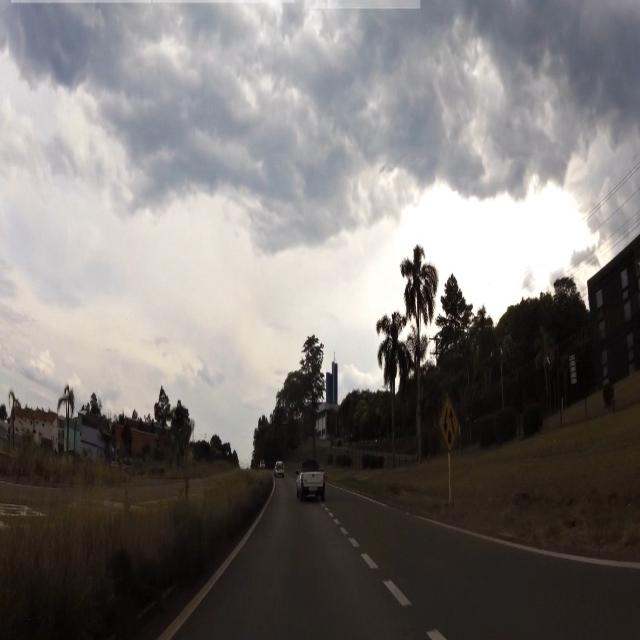A-42b: (440, 397, 459, 451)
